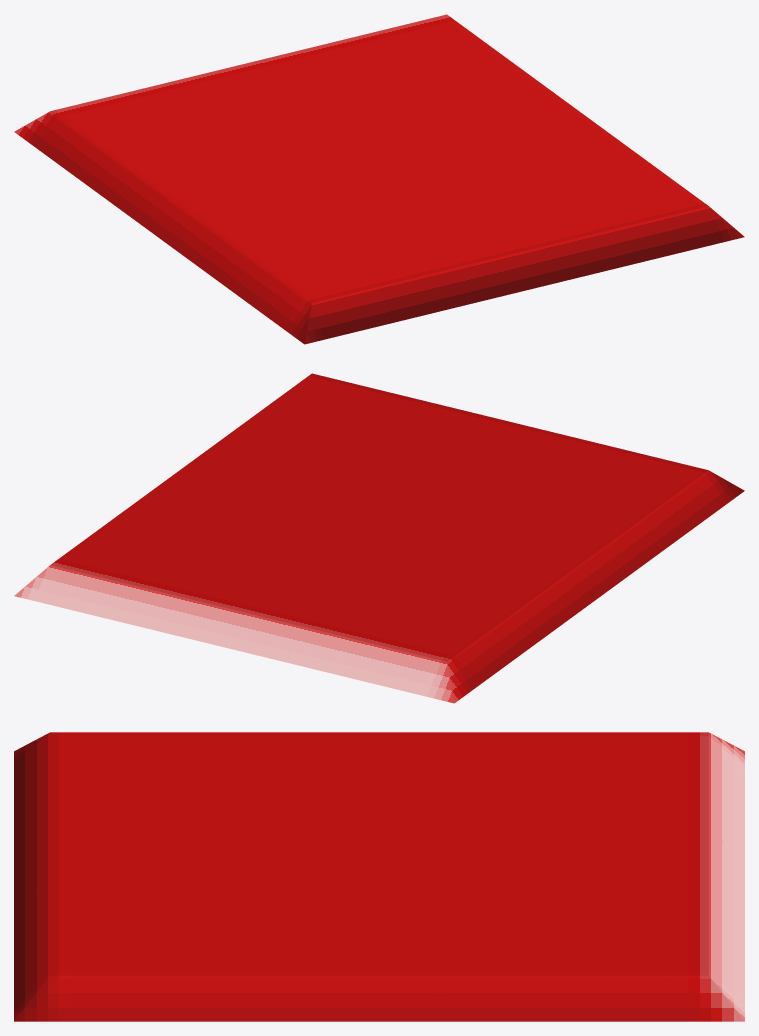
The picture shows the model from 3 angles, top to bottom: view 1: azimuth 30°, elevation 25°; view 2: azimuth 150°, elevation 25°; view 3: azimuth 270°, elevation 25°; orthographic projection. The views are drawn at different scales.
Visible parts, largest first — view 1: Box02; view 2: Box02; view 3: Box02.
Part boxes in pixels (x1=…): Box02: x1=14, y1=14, x2=744, y2=344; Box02: x1=14, y1=373, x2=744, y2=703; Box02: x1=14, y1=732, x2=744, y2=1021.
Bounding box in the file's own units: 540 × 30.24 × 617.
1 material, 1 textured.
